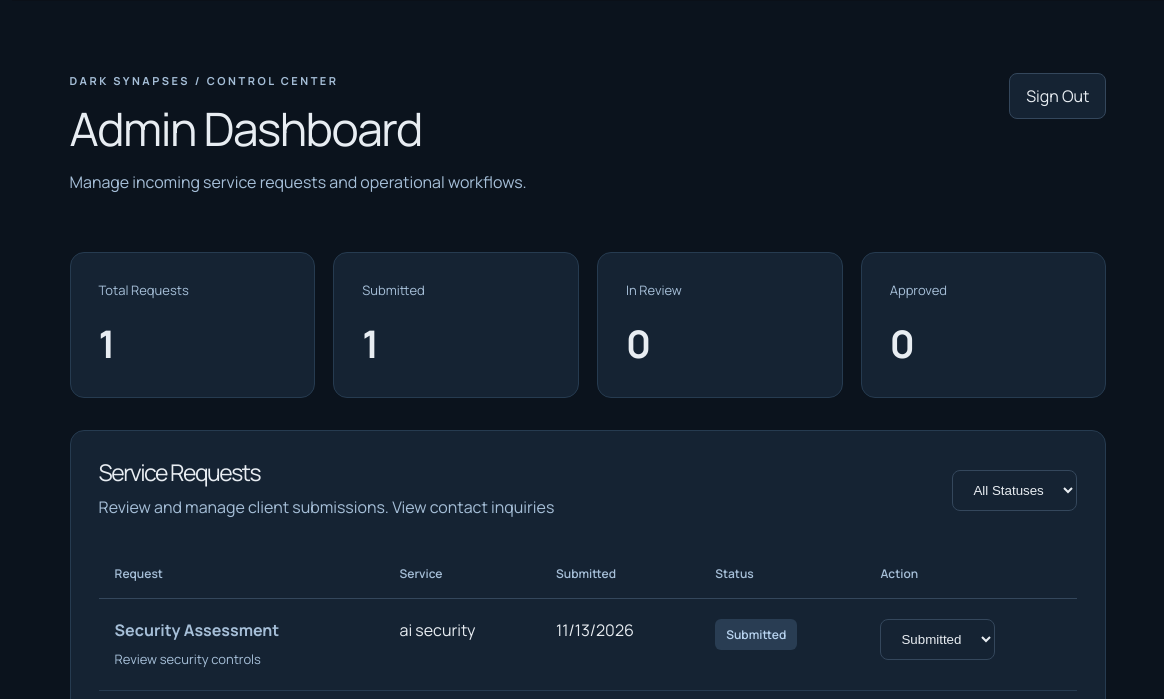
AdminDashboardPage conflict handling › preserves the current status when PATCH returns 409
The image size is (1164, 699).
Check: the text "Security Assessment" is shown, box x1=115 y1=619 x2=279 y2=641
Step 1. Select "In Review" in the dropdown named "Update Security Assessment status" → (938, 640), box x1=880 y1=619 x2=995 y2=660
(page scrolled)
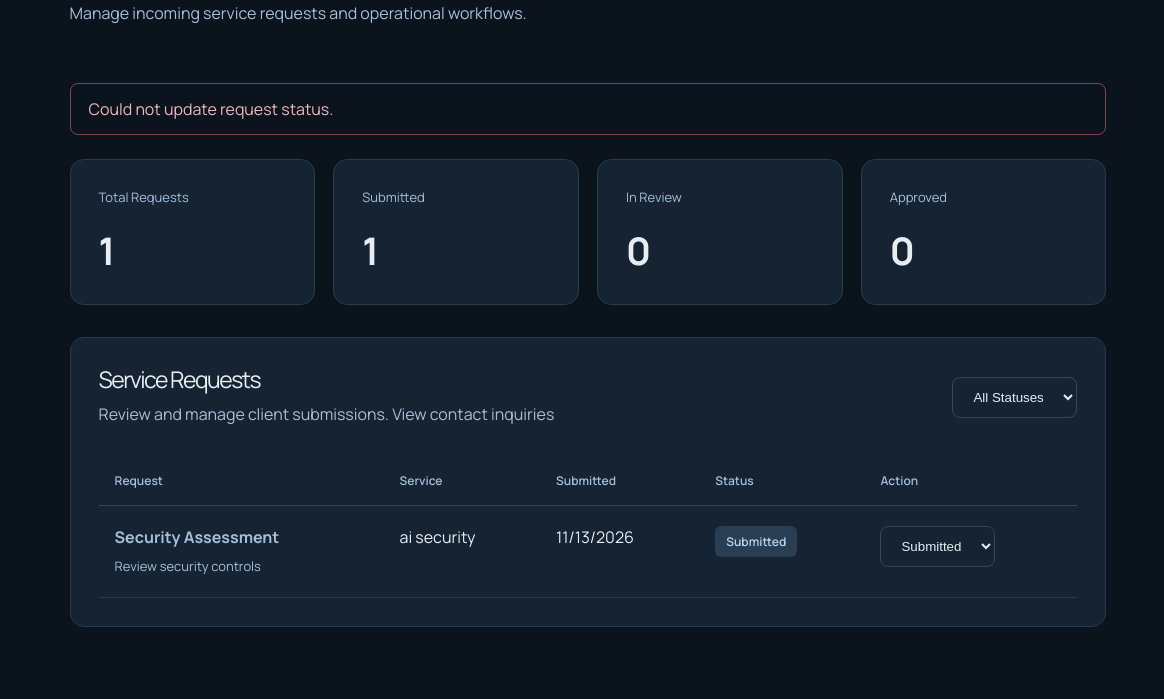
Check: the dropdown named "Update Security Assessment status" is enabled, box x1=880 y1=526 x2=995 y2=567
Check: the message reads "Could not update request status.", box x1=89 y1=98 x2=333 y2=120
